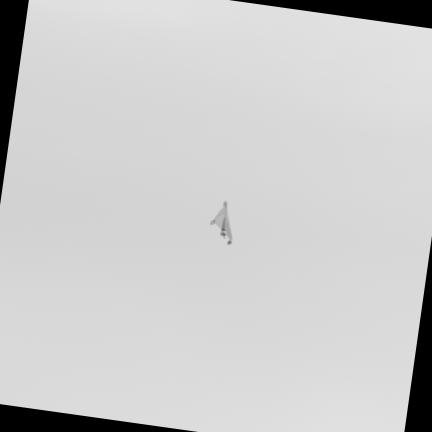Shahed: (210, 201, 232, 244)
